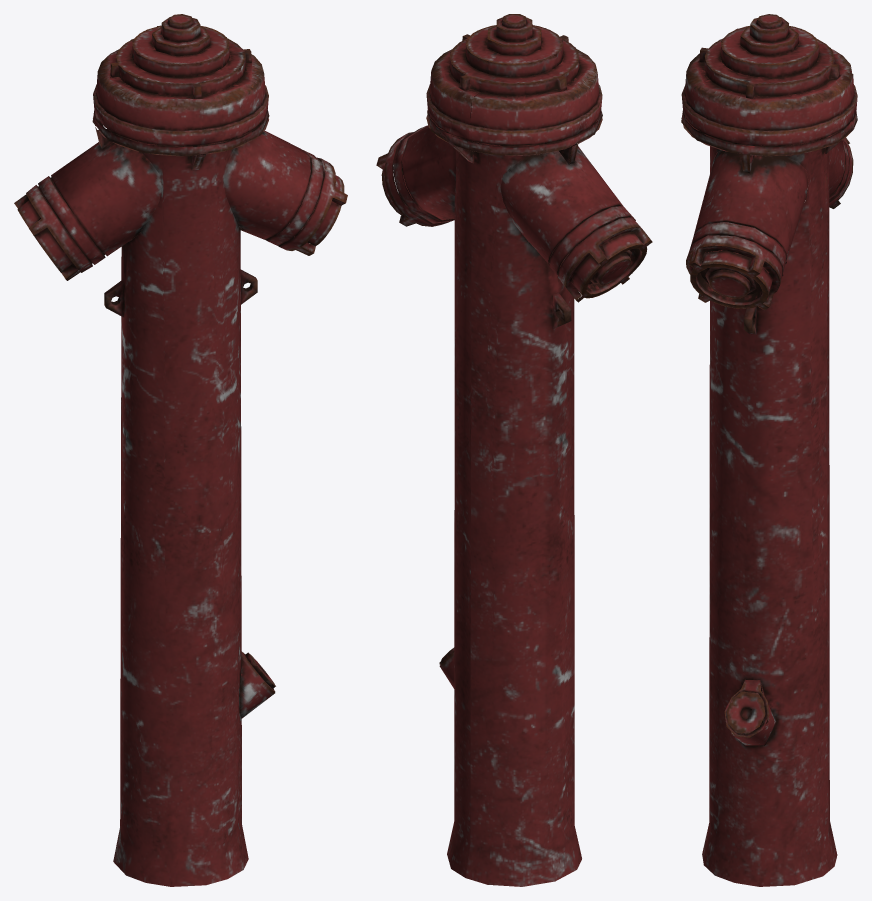
Rendered from hydrant.glb.
3 views of the same model, side by side, from view 1: azimuth 30°, elevation 25°; view 2: azimuth 150°, elevation 25°; view 3: azimuth 270°, elevation 25° (orthographic).
Parts seen in each view (by area): view 1: hydrant; view 2: hydrant; view 3: hydrant.
Boxes of the visible parts, x1,y1,x2,y2 form: hydrant: (14, 14, 347, 886); hydrant: (376, 14, 652, 886); hydrant: (681, 14, 857, 886).
Bounding box in the file's own units: 0.2903 × 0.8076 × 0.154.
1 material, 1 textured.
